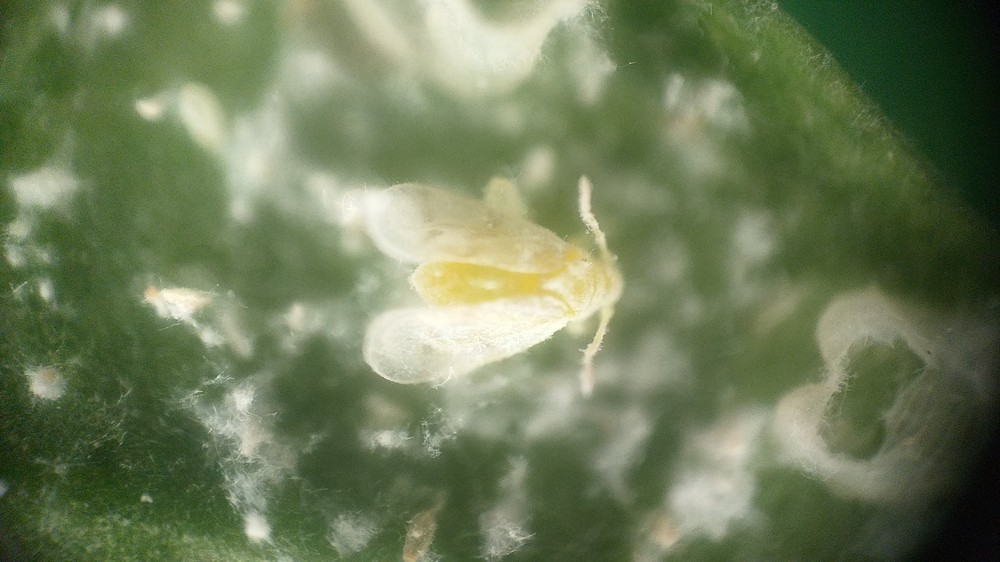Mosca Blanca: (338, 146, 646, 407)
